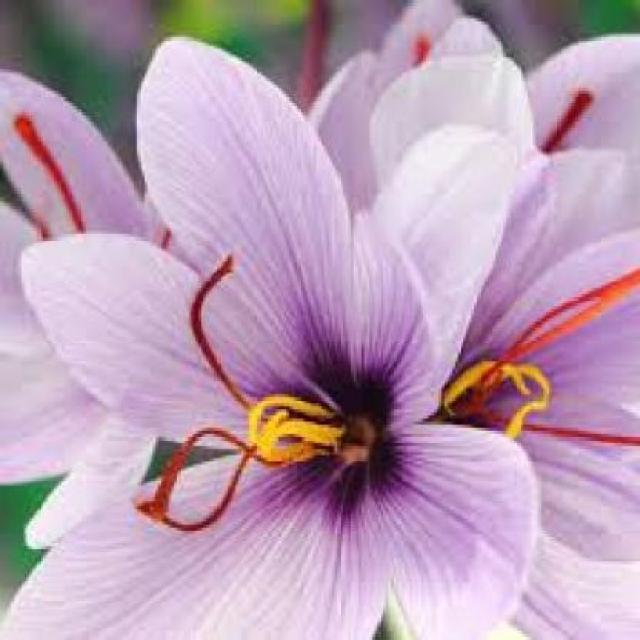Flower: (0, 32, 543, 640)
stigma: (486, 268, 640, 392), (132, 446, 256, 537), (148, 426, 251, 528), (10, 109, 86, 228), (186, 251, 244, 403), (482, 405, 640, 448), (546, 83, 596, 154)
